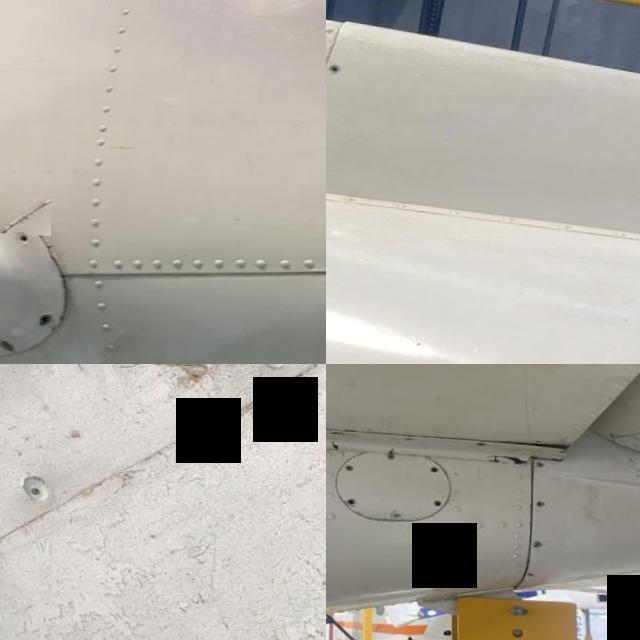Crack: (38, 240, 82, 312), (0, 191, 53, 234)
Missing_Fastener: (16, 230, 33, 244), (41, 312, 56, 324), (332, 63, 342, 74), (348, 494, 358, 501), (430, 462, 441, 468), (434, 496, 444, 502), (538, 494, 546, 500), (529, 566, 537, 570)
